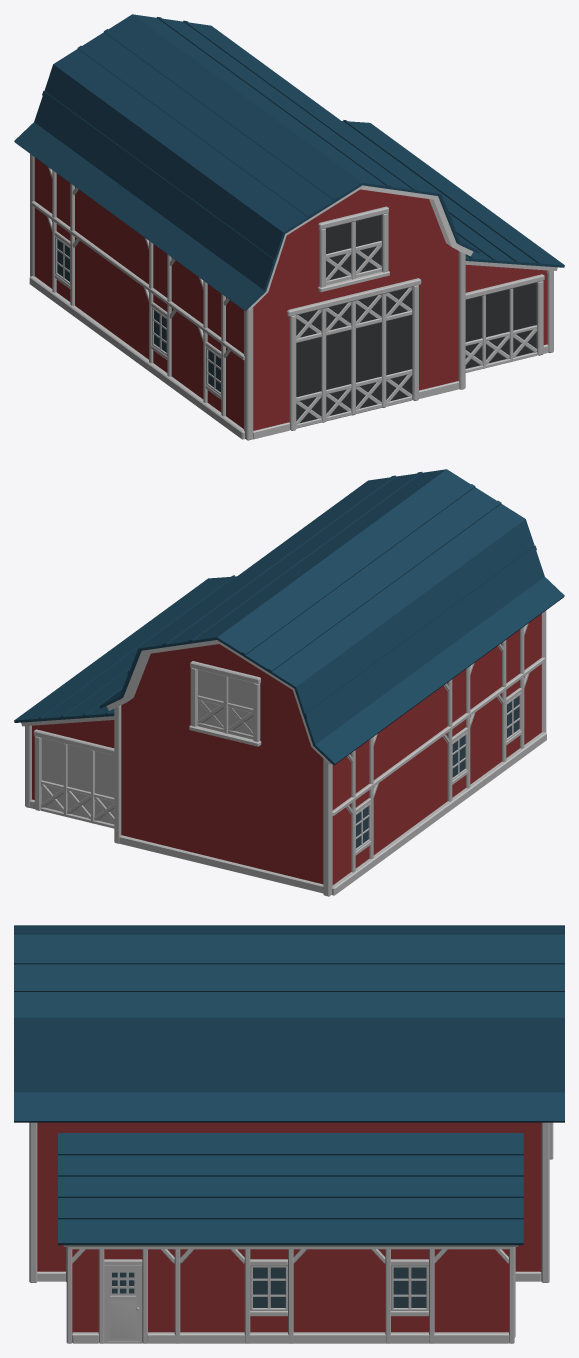
3 renders of one model, top to bottom at view 1: azimuth 30°, elevation 25°; view 2: azimuth 150°, elevation 25°; view 3: azimuth 270°, elevation 25°, orthographic. The views are drawn at different scales.
Parts seen in each view (by area): view 1: farmbuilding_08.001; view 2: farmbuilding_08.001; view 3: farmbuilding_08.001.
Part boxes in pixels (<box>): farmbuilding_08.001: <box>14,14,564,440</box>; farmbuilding_08.001: <box>14,469,564,896</box>; farmbuilding_08.001: <box>14,925,564,1343</box>.
Size of the model in its own units: 12.78 by 8.58 by 15.03.
1 material, 1 textured.
